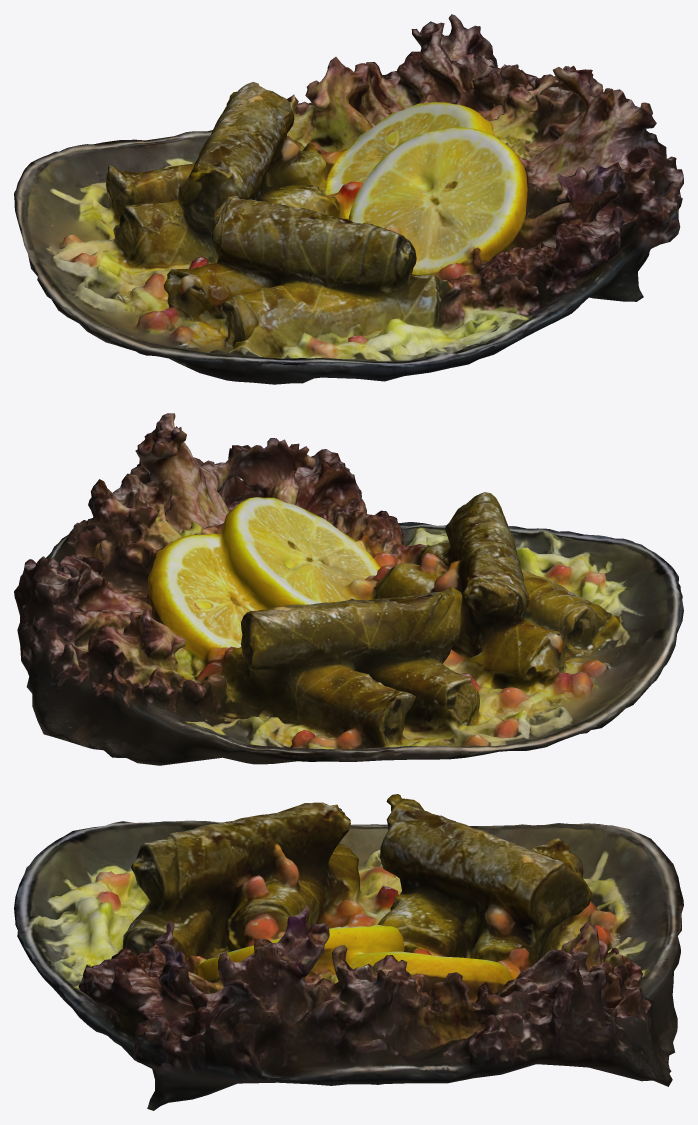
File: yalanji_1752072109513.glb
The picture shows the model from 3 angles, top to bottom: view 1: azimuth 30°, elevation 25°; view 2: azimuth 150°, elevation 25°; view 3: azimuth 270°, elevation 25°; orthographic projection. The views are drawn at different scales.
Visible parts, largest first — view 1: 3DModel_Custom; view 2: 3DModel_Custom; view 3: 3DModel_Custom.
Boxes of the visible parts, box(x1,y1,x2,y2) form: 3DModel_Custom: box(14, 14, 683, 384); 3DModel_Custom: box(14, 413, 683, 765); 3DModel_Custom: box(14, 794, 683, 1110).
Size of the model in its own units: 0.2082 by 0.0655 by 0.198.
Materials: 1 (1 with a texture image).
